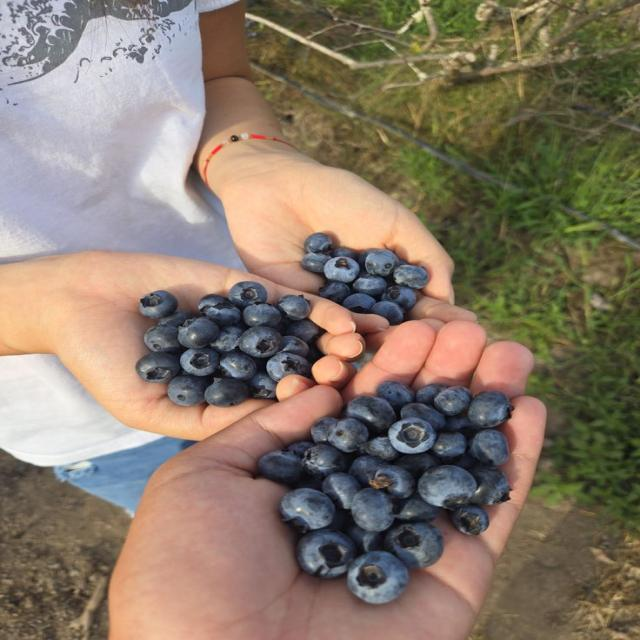blueberry: (347, 551, 408, 604), (296, 530, 356, 578), (385, 522, 443, 568), (418, 465, 477, 508), (280, 488, 334, 533), (346, 396, 395, 434), (351, 488, 393, 531), (468, 391, 513, 428), (388, 419, 436, 453), (469, 466, 511, 504), (259, 451, 302, 486), (302, 444, 346, 477), (322, 472, 361, 509), (370, 465, 415, 497), (469, 429, 508, 465), (327, 418, 368, 452), (198, 294, 241, 326), (239, 327, 282, 358), (394, 492, 439, 521), (136, 353, 181, 382), (167, 375, 209, 406), (400, 402, 446, 430), (267, 352, 311, 381), (178, 317, 219, 348), (345, 522, 384, 553), (205, 379, 248, 407), (349, 455, 386, 486), (376, 381, 414, 411), (434, 386, 472, 416), (451, 505, 489, 535), (394, 453, 439, 478), (180, 348, 219, 376), (140, 290, 178, 318), (144, 325, 183, 352), (229, 282, 267, 309), (220, 352, 256, 380), (243, 303, 282, 328), (210, 325, 245, 352), (360, 437, 399, 461), (431, 432, 466, 458), (324, 257, 359, 283), (365, 250, 398, 277), (287, 319, 324, 343), (381, 286, 416, 311), (393, 265, 429, 289), (277, 295, 310, 320), (247, 372, 277, 399), (352, 274, 387, 297), (370, 301, 403, 325), (320, 282, 352, 304), (416, 383, 447, 405), (342, 293, 376, 313), (311, 417, 337, 443), (158, 310, 194, 328), (280, 336, 309, 358), (301, 253, 331, 274), (304, 233, 333, 253), (443, 414, 474, 432), (358, 248, 376, 272), (286, 441, 313, 457), (331, 248, 359, 260)
